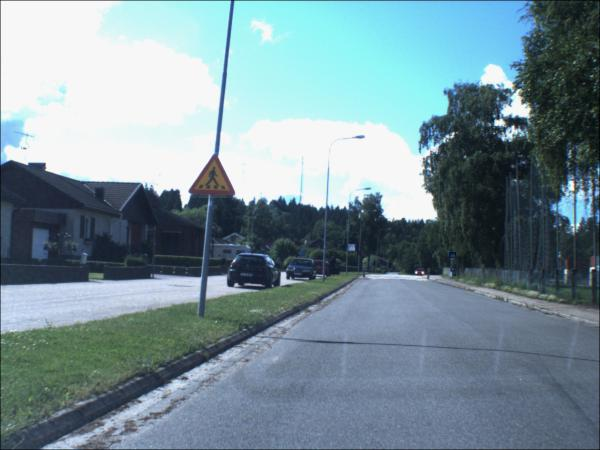NO_PARKING: (357, 253, 362, 259)
PEDESTRIAN_CROSSING: (348, 245, 356, 253), (449, 253, 457, 260)
WARNING: (186, 153, 237, 200)
